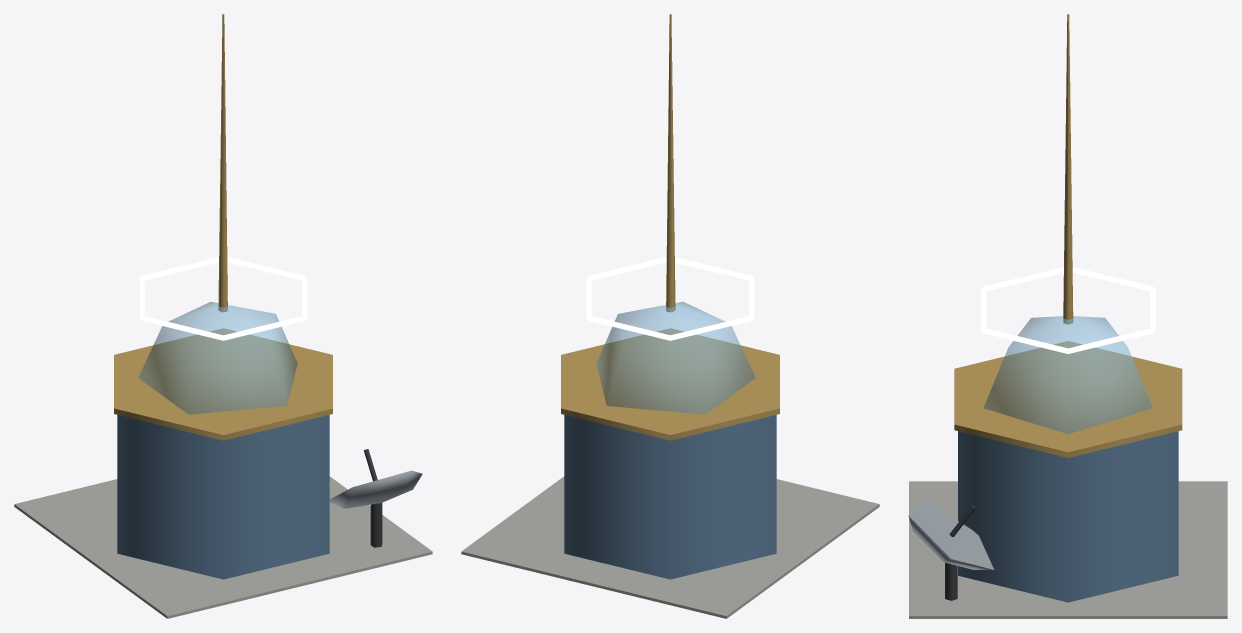
The model's file is bld_special_research_center_a10_lod2.glb.
3 renders of one model, left to right at view 1: azimuth 30°, elevation 25°; view 2: azimuth 150°, elevation 25°; view 3: azimuth 270°, elevation 25°, orthographic. The views are drawn at different scales.
Parts seen in each view (by area): view 1: body, antenna; view 2: body; view 3: body, antenna.
Boxes of the visible parts, left/top/right/bottom form: body: left=14, top=14, right=432, bottom=618; antenna: left=329, top=449, right=422, bottom=547; body: left=461, top=14, right=879, bottom=618; body: left=909, top=14, right=1227, bottom=618; antenna: left=908, top=500, right=994, bottom=600.
Size of the model in its own units: 15.6 by 27.9 by 15.03.
